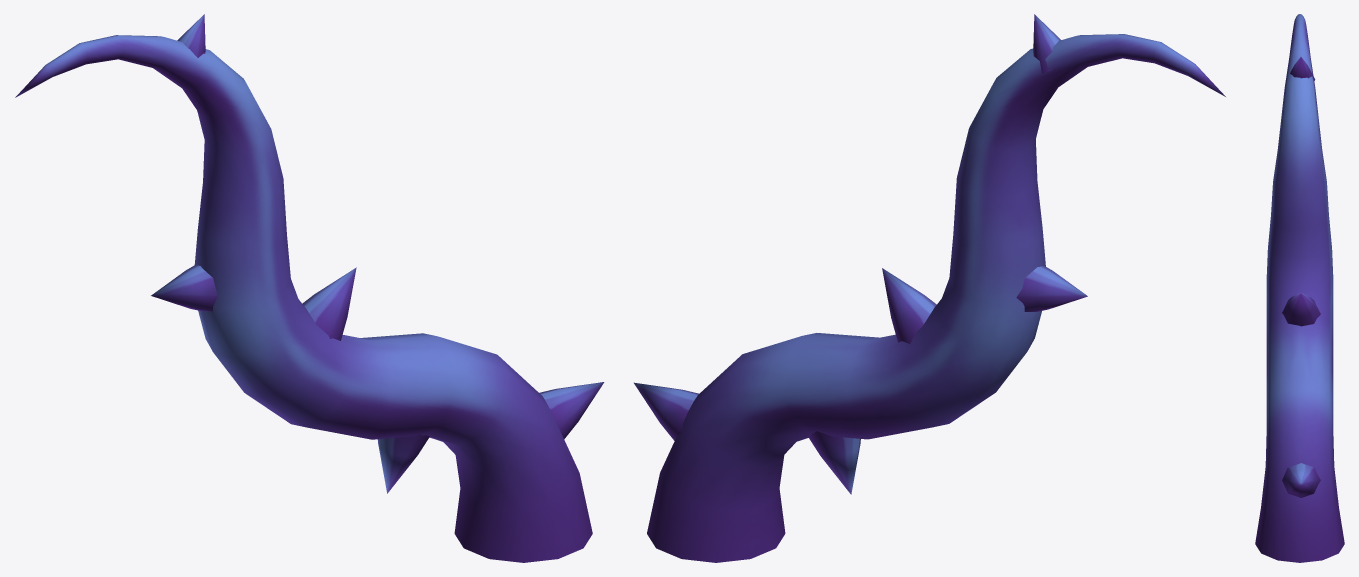
File: ThornVine_S_03.fbx
The picture shows the model from 3 angles, left to right: view 1: azimuth 30°, elevation 25°; view 2: azimuth 150°, elevation 25°; view 3: azimuth 270°, elevation 25°; orthographic projection. The views are drawn at different scales.
Parts seen in each view (by area): view 1: ThornVine_S_3; view 2: ThornVine_S_3; view 3: ThornVine_S_3.
Part boxes in pixels (x1,y1,x2,y2): ThornVine_S_3: (15,14,604,562); ThornVine_S_3: (634,14,1225,562); ThornVine_S_3: (1255,14,1344,562).
Size of the model in its own units: 66.35 by 64.15 by 13.45.
